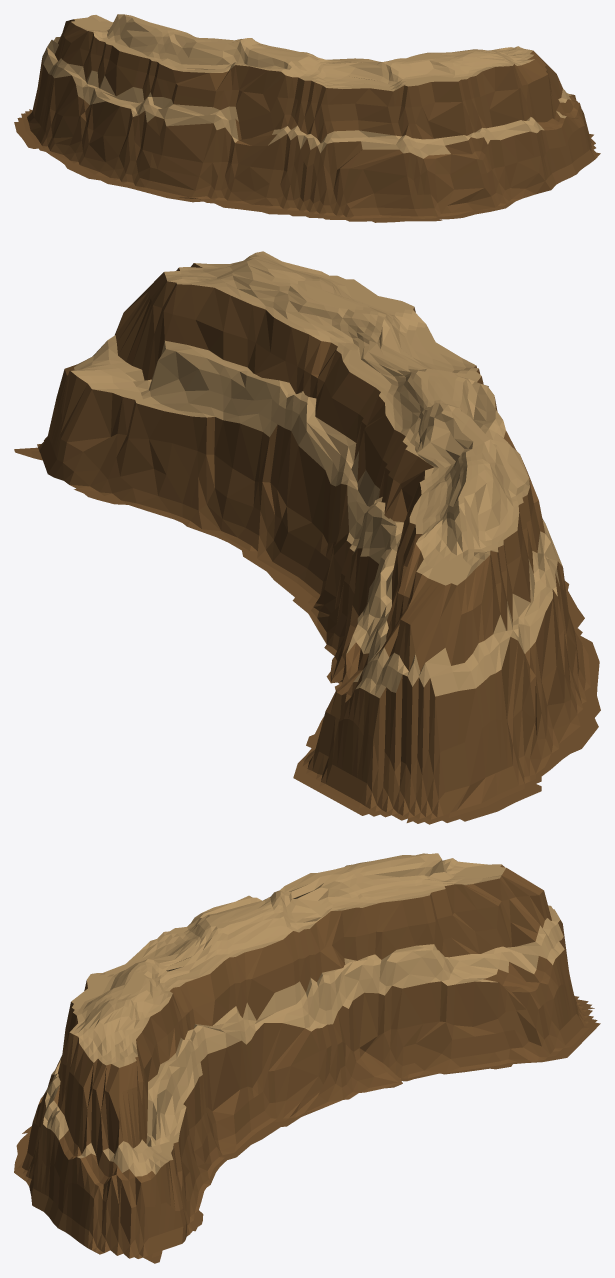
File: mountain2.glb
The picture shows the model from 3 angles, top to bottom: view 1: azimuth 30°, elevation 25°; view 2: azimuth 150°, elevation 25°; view 3: azimuth 270°, elevation 25°; orthographic projection. The views are drawn at different scales.
Visible parts, largest first — view 1: Mountain4; view 2: Mountain4; view 3: Mountain4.
Boxes of the visible parts, x1,y1,x2,y2 form: Mountain4: (14,14,600,222); Mountain4: (14,251,600,824); Mountain4: (14,853,600,1263).
Size of the model in its own units: 99.55 by 29.28 by 87.78.
